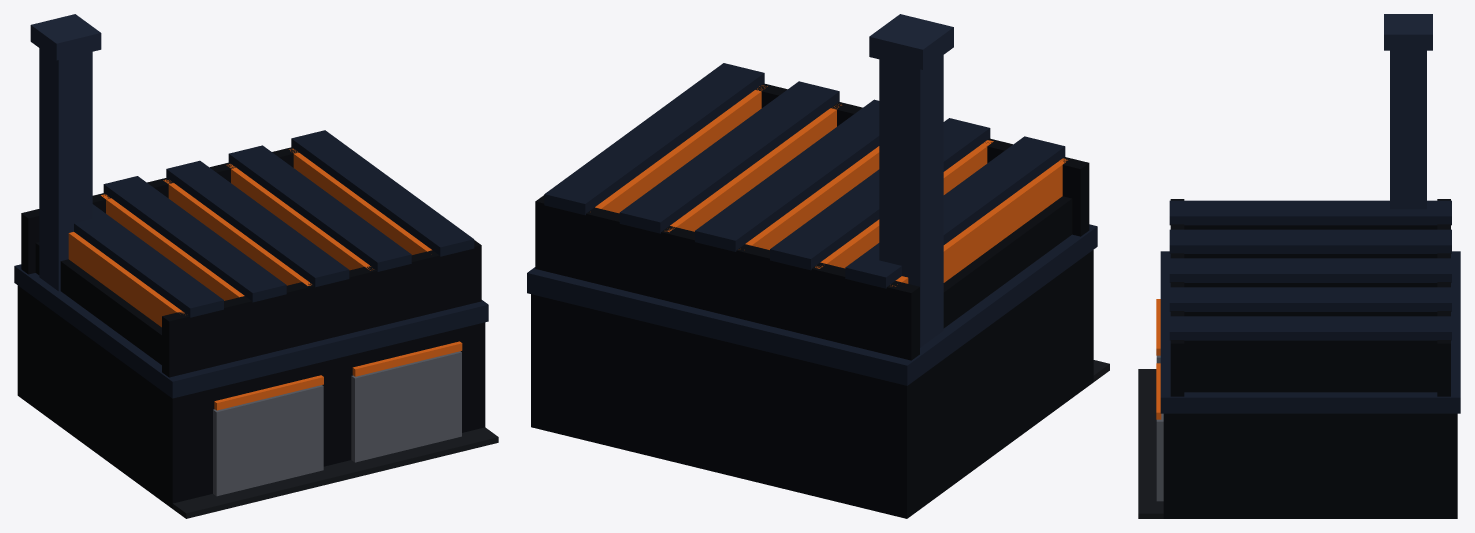
File: works5.obj
The picture shows the model from 3 angles, left to right: view 1: azimuth 30°, elevation 25°; view 2: azimuth 150°, elevation 25°; view 3: azimuth 270°, elevation 25°; orthographic projection. The views are drawn at different scales.
Parts seen in each view (by area): view 1: tooth-caps, shed, gable-ends, doors, north-lights, stack, eaves, apron, teeth, door-lights; view 2: shed, tooth-caps, gable-ends, stack, north-lights, eaves, teeth; view 3: tooth-caps, shed, teeth, eaves, stack, apron, gable-ends, doors, door-lights.
Boxes of the visible parts, x1,y1,x2,y2 form: tooth-caps: (74, 130, 474, 317); shed: (17, 285, 485, 508); gable-ends: (21, 147, 481, 377); doors: (213, 351, 461, 496); north-lights: (68, 148, 431, 327); stack: (30, 14, 101, 291); eaves: (14, 264, 488, 398); apron: (172, 427, 498, 518); teeth: (35, 242, 161, 364); door-lights: (214, 341, 462, 410); shed: (531, 250, 1093, 518); tooth-caps: (544, 63, 1065, 288); gable-ends: (535, 83, 1089, 360); stack: (869, 14, 953, 347); north-lights: (595, 85, 1067, 286); eaves: (527, 224, 1097, 385); teeth: (943, 196, 1072, 328); tooth-caps: (1169, 200, 1451, 340); shed: (1163, 413, 1457, 518); teeth: (1184, 225, 1437, 392); eaves: (1160, 251, 1460, 413); stack: (1384, 14, 1432, 209); apron: (1138, 369, 1163, 518); gable-ends: (1170, 199, 1450, 396); doors: (1156, 355, 1163, 501); door-lights: (1156, 299, 1161, 419).
Bounding box in the file's own units: 3.54 × 4.07 × 3.3.
